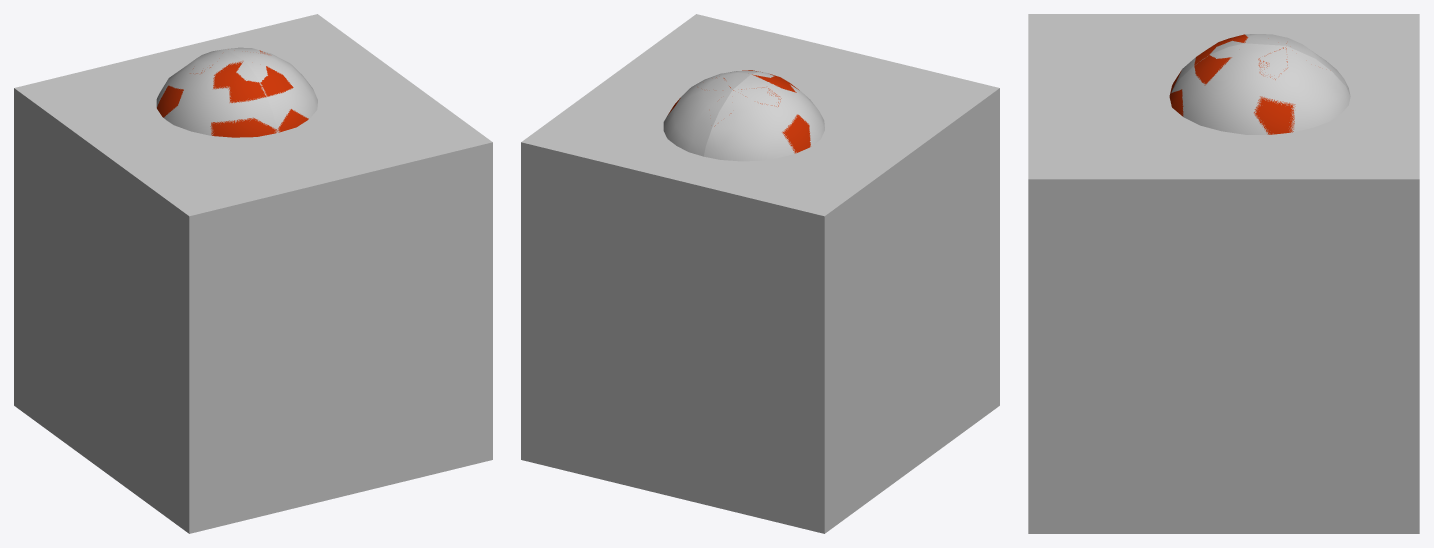
The model's file is prueba2.obj.
3 views of the same model, side by side, from view 1: azimuth 30°, elevation 25°; view 2: azimuth 150°, elevation 25°; view 3: azimuth 270°, elevation 25° (orthographic). The views are drawn at different scales.
Visible parts, largest first — view 1: Cube, head_low__MI_body, head_low__MI_body.001_Mesh.001; view 2: Cube, head_low__MI_body, head_low__MI_body.001_Mesh.001; view 3: Cube, head_low__MI_body, head_low__MI_body.001_Mesh.001.
Boxes of the visible parts, left/top/right/bottom form: Cube: left=14, top=14, right=492, bottom=533; head_low__MI_body: left=156, top=47, right=317, bottom=135; head_low__MI_body.001_Mesh.001: left=157, top=50, right=308, bottom=137; Cube: left=521, top=14, right=999, bottom=533; head_low__MI_body: left=663, top=71, right=824, bottom=161; head_low__MI_body.001_Mesh.001: left=667, top=70, right=810, bottom=153; Cube: left=1028, top=14, right=1419, bottom=533; head_low__MI_body: left=1171, top=34, right=1350, bottom=134; head_low__MI_body.001_Mesh.001: left=1169, top=34, right=1295, bottom=134.
Bounding box in the file's own units: 2 × 2.3 × 2.
